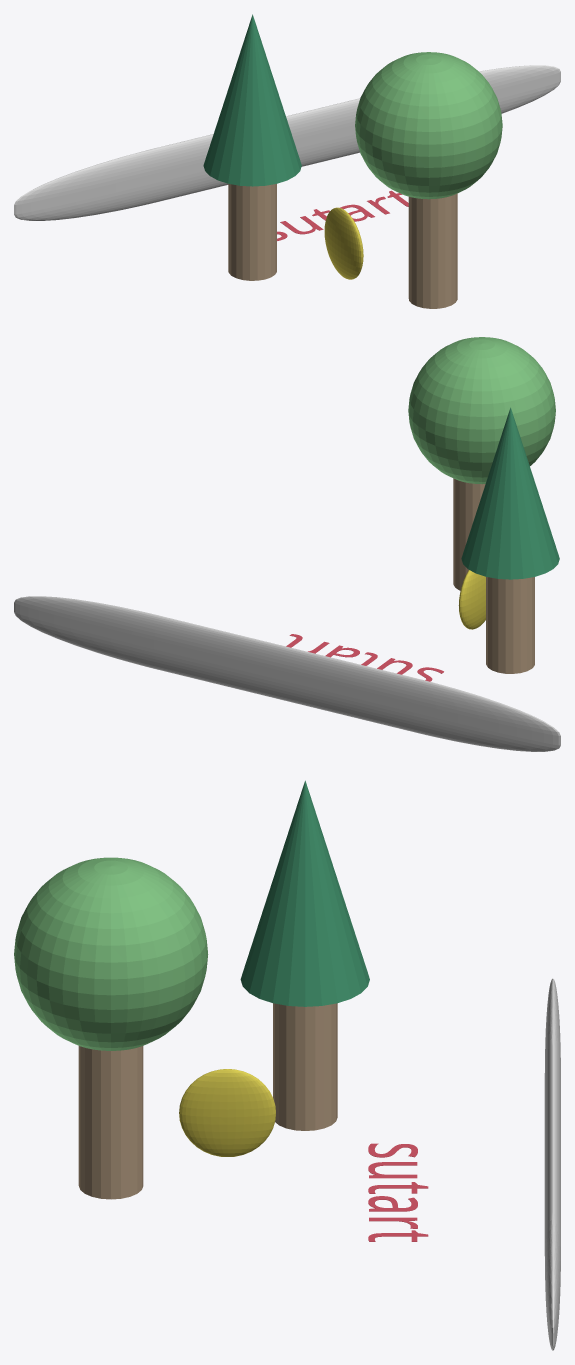
Rendered from misaki_BG_assets.glb.
The picture shows the model from 3 angles, top to bottom: view 1: azimuth 30°, elevation 25°; view 2: azimuth 150°, elevation 25°; view 3: azimuth 270°, elevation 25°; orthographic projection. The views are drawn at different scales.
Parts seen in each view (by area): view 1: Mesh_Mesh_head_geo.001_lambert2SG.001; view 2: Mesh_Mesh_head_geo.001_lambert2SG.001; view 3: Mesh_Mesh_head_geo.001_lambert2SG.001.
Boxes of the visible parts, x1=… form: Mesh_Mesh_head_geo.001_lambert2SG.001: x1=14, y1=14, x2=560, y2=308; Mesh_Mesh_head_geo.001_lambert2SG.001: x1=14, y1=337, x2=560, y2=751; Mesh_Mesh_head_geo.001_lambert2SG.001: x1=14, y1=780, x2=560, y2=1350.
Bounding box in the file's own units: 257 × 115 × 169.
